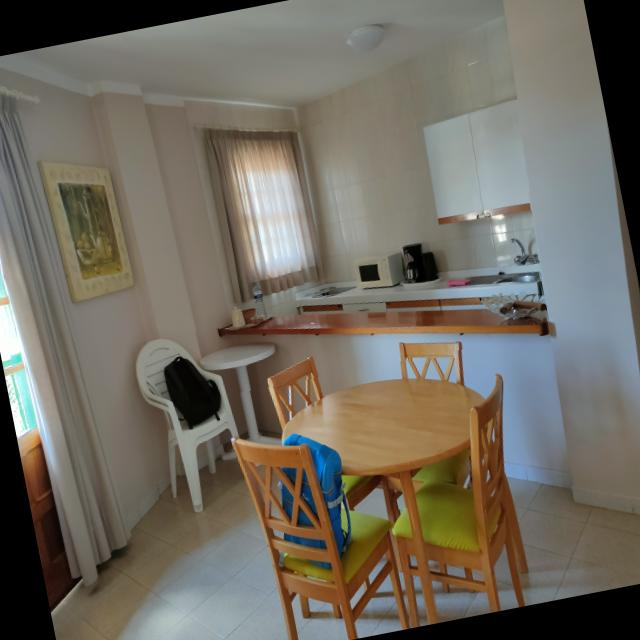cabinet: (224, 334, 568, 482), (423, 100, 532, 226), (299, 299, 488, 316)
chair: (233, 435, 412, 640), (416, 376, 529, 613), (135, 340, 240, 514), (267, 358, 325, 430), (393, 509, 419, 627), (399, 342, 465, 386), (413, 450, 472, 487)
countertop: (222, 310, 545, 336), (298, 285, 536, 308)
microwave: (354, 252, 406, 290)
shower: (448, 272, 541, 286), (511, 239, 540, 266)
sofa: (295, 281, 357, 300)
stove: (282, 380, 486, 625), (200, 344, 283, 446), (222, 450, 238, 462)
